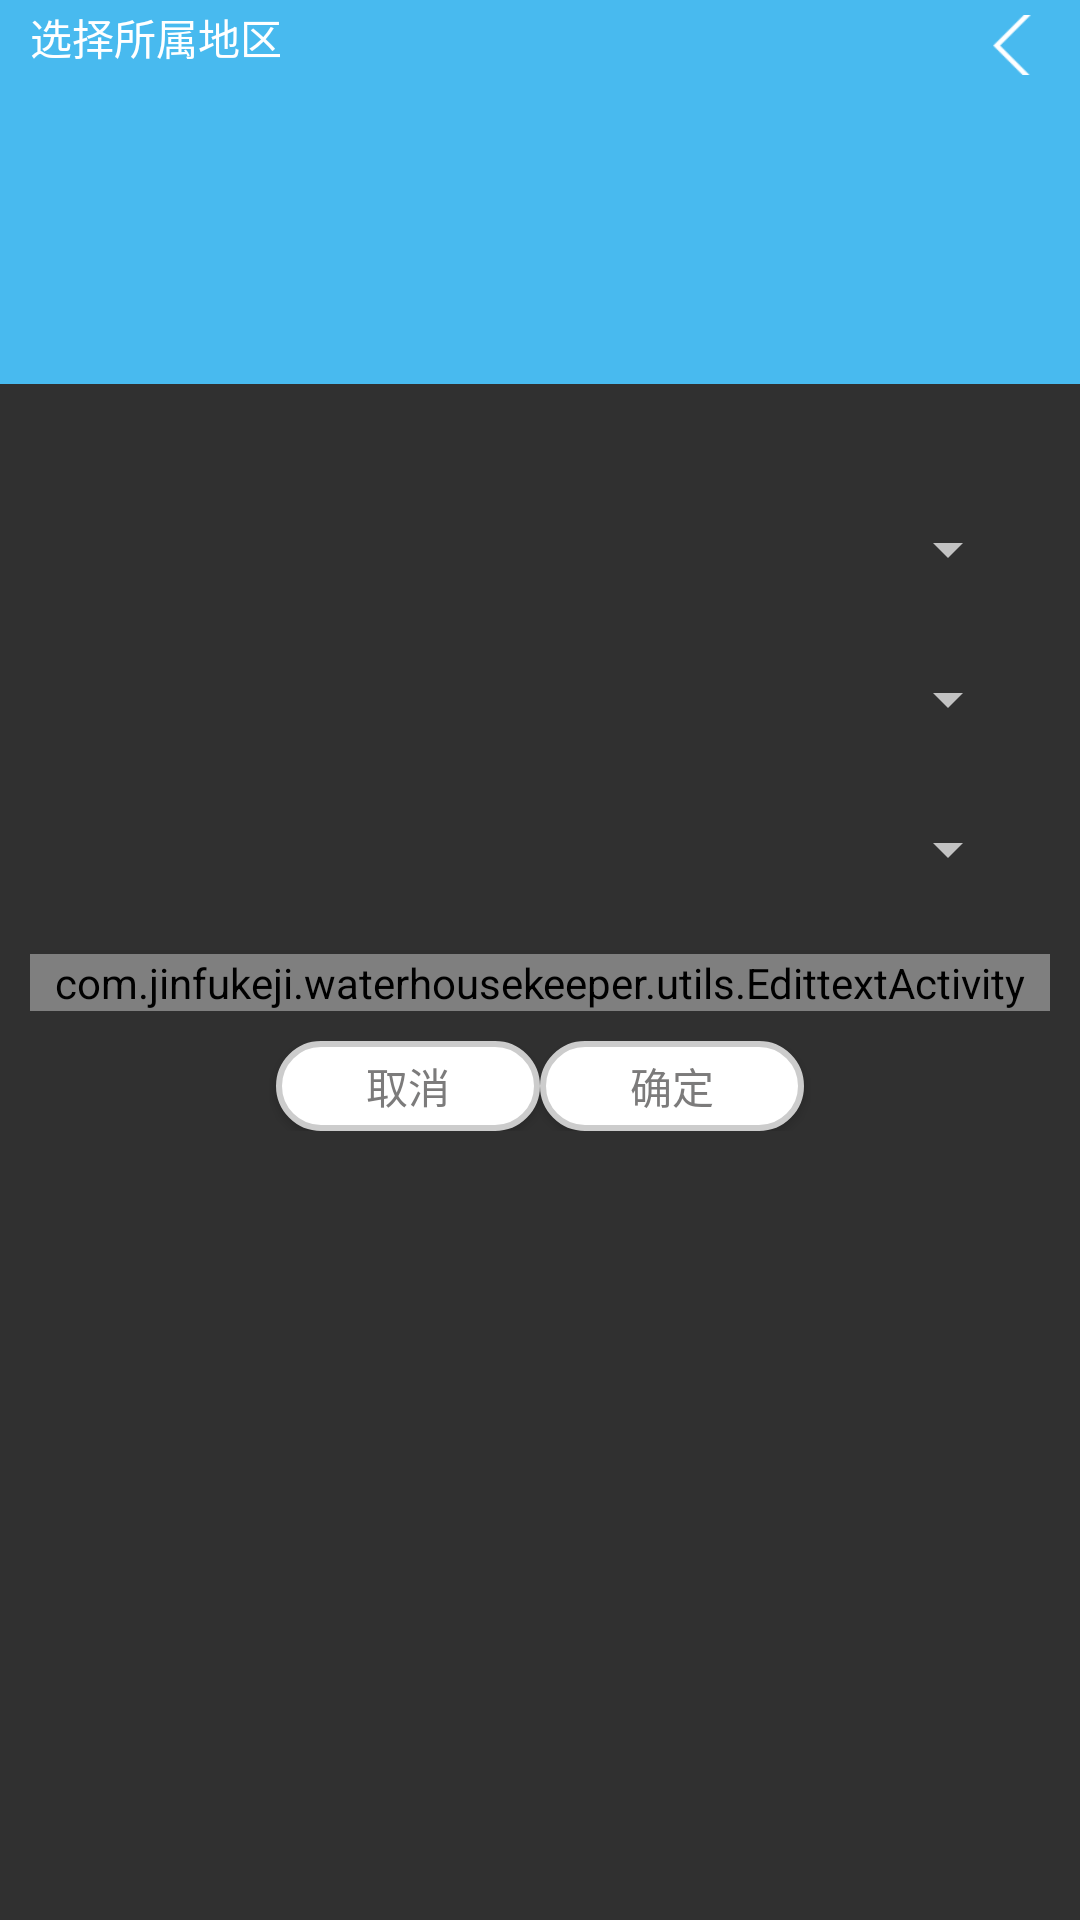

Icons on this 1080 × 1920 Android screen, each with its box as (x1, y1, x2, y2):
jiantou: (993, 15, 1031, 75)
